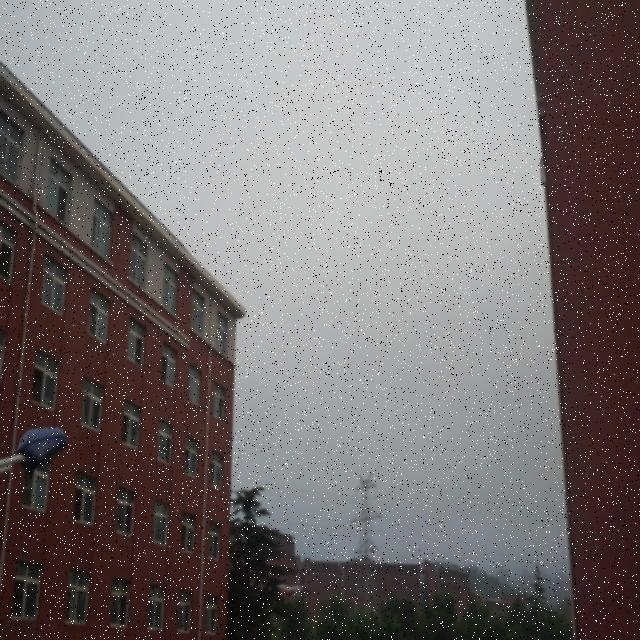UAV: (276, 584, 302, 604)
